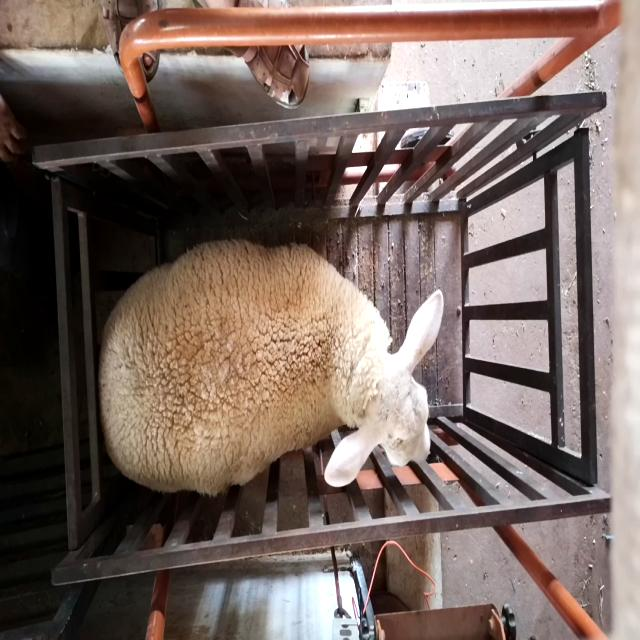sheep: (98, 239, 444, 497)
